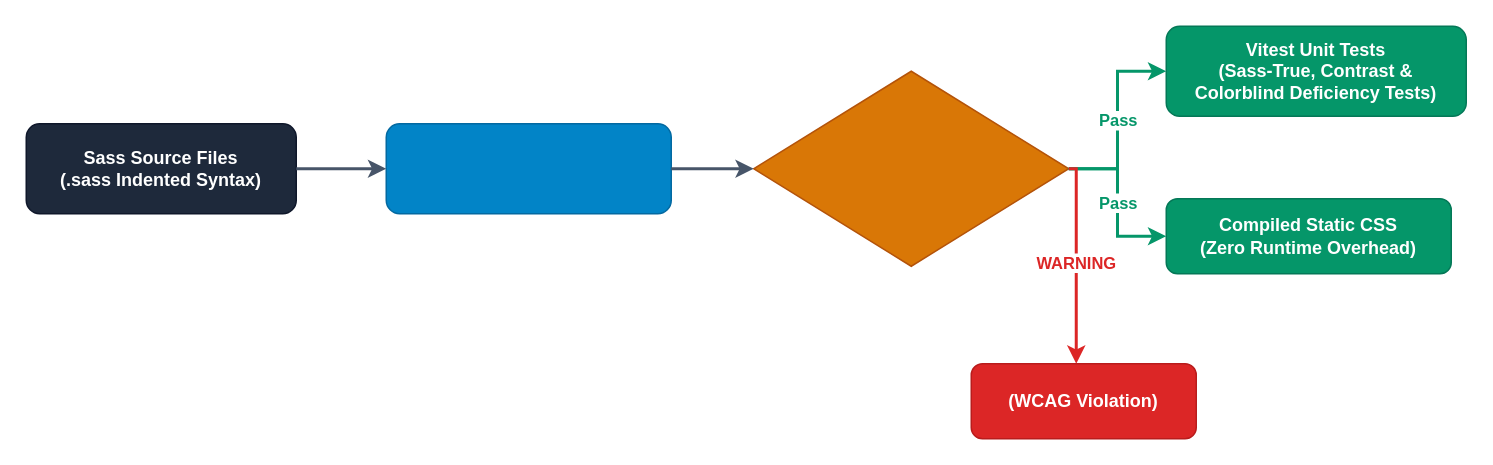
Image size: 1493x465. Some labels were removed from this diagram. The shapes that lost their labels are listed below. From the top down, each one's centre as x and y in pixels, then its label:
pixel 528 168: Dart Sass Compiler (Build Time Math & Maps)
pixel 910 168: WCAG 2.2 AA/AAA & Colorblind Contrast Check (l-contrast & simulate-colorblind)
